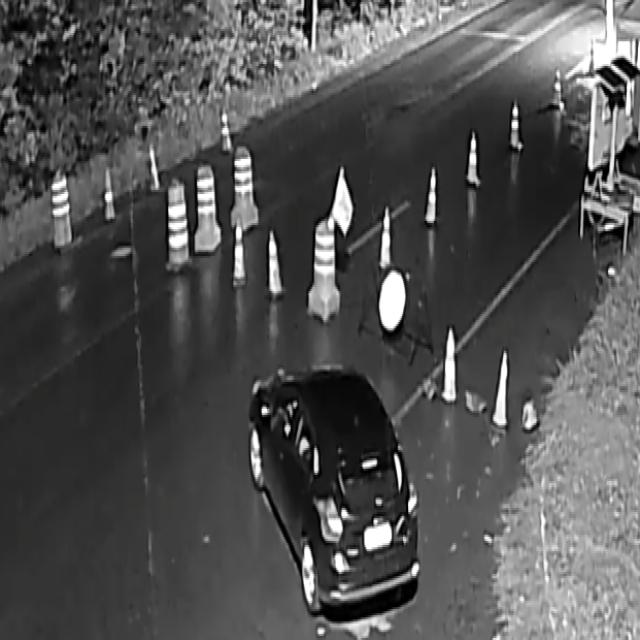big_cone: (310, 221, 338, 319), (165, 178, 191, 271), (194, 166, 220, 254), (230, 146, 258, 226), (51, 168, 74, 251)
small_cone: (491, 345, 511, 435), (442, 320, 459, 408), (266, 228, 284, 299), (231, 213, 247, 290), (378, 200, 394, 272), (464, 130, 483, 190), (423, 161, 438, 227), (145, 138, 162, 192), (102, 161, 116, 223), (216, 106, 234, 152), (508, 99, 523, 152)
